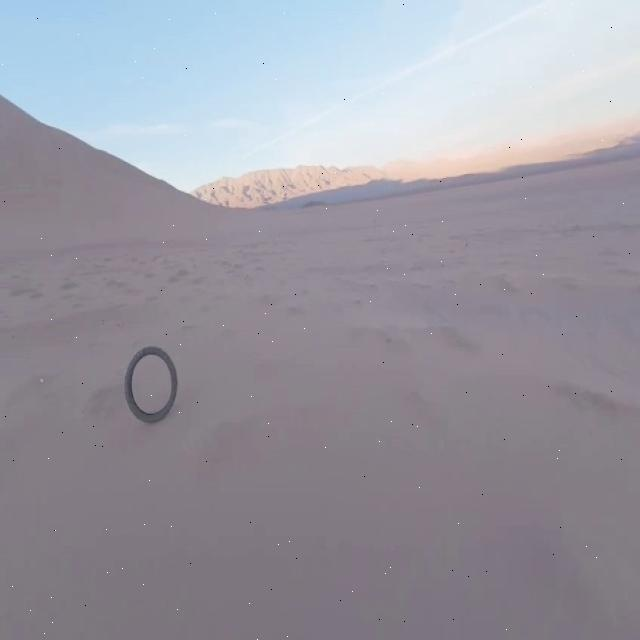Tire: (125, 347, 177, 422)
